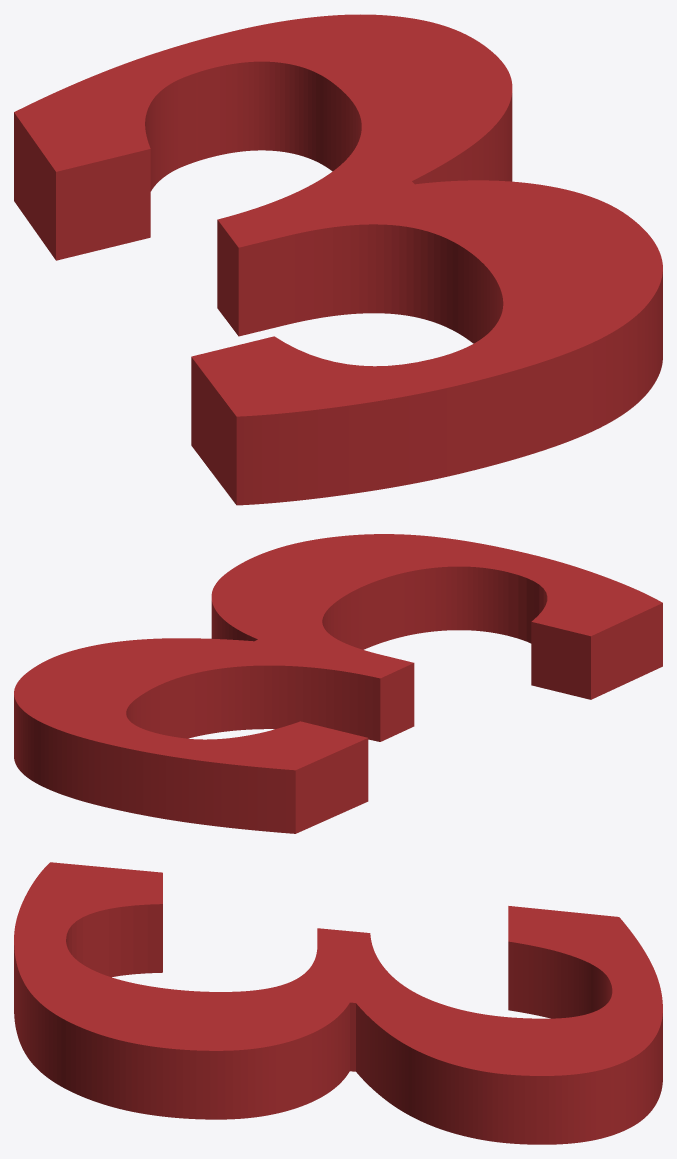
The picture shows the model from 3 angles, top to bottom: view 1: azimuth 30°, elevation 25°; view 2: azimuth 150°, elevation 25°; view 3: azimuth 270°, elevation 25°; orthographic projection. The views are drawn at different scales.
Visible parts, largest first — view 1: Text; view 2: Text; view 3: Text.
Boxes of the visible parts, box(x1,y1,x2,y2) form: Text: box(14, 14, 662, 505); Text: box(14, 534, 662, 833); Text: box(14, 862, 662, 1144).
Size of the model in its own units: 194 by 29.15 by 249.
